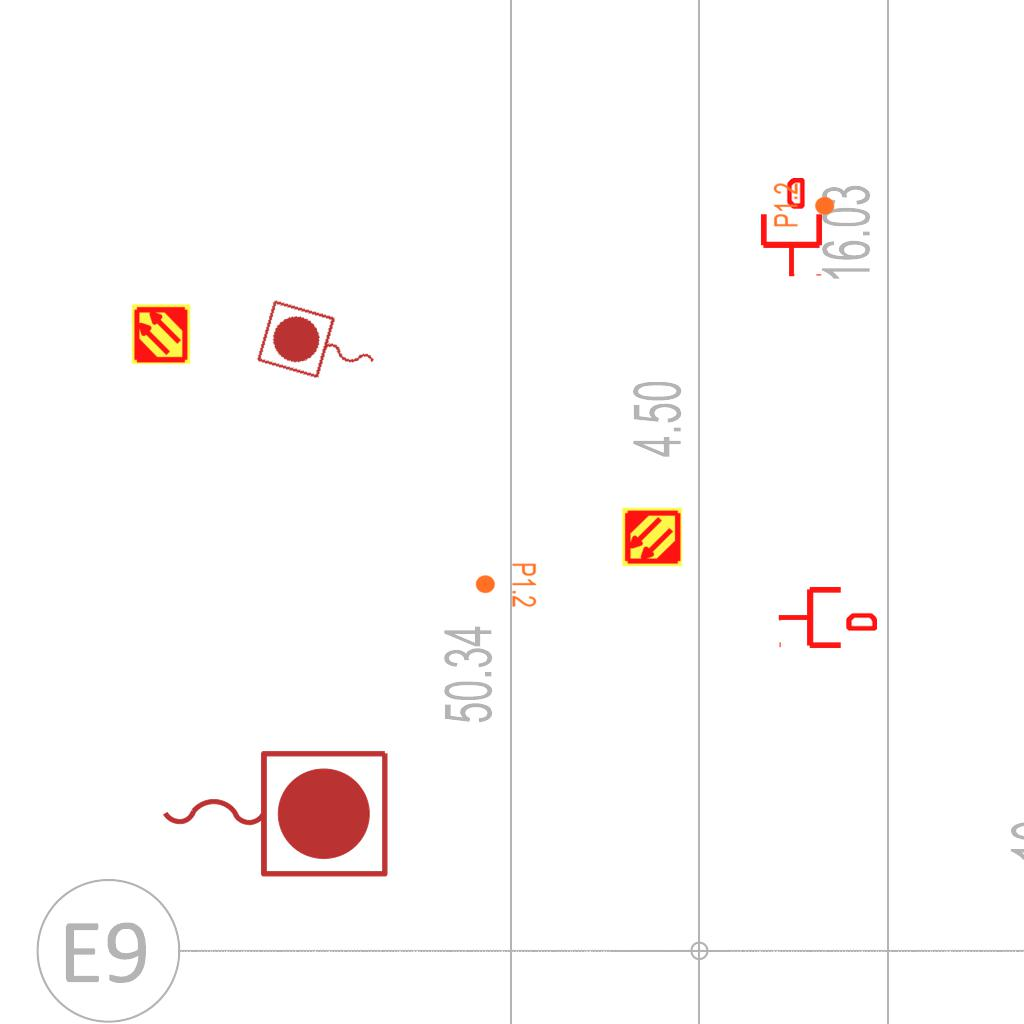ASR_Ansaugrauchmelder: (621, 506, 683, 568), (130, 303, 192, 365)
Datenanschluss_einfach: (777, 583, 877, 652), (757, 178, 826, 278)
Downlight_LED_Einbauleuchten_Flur: (474, 562, 538, 608), (772, 182, 836, 228)
Zugtaster: (152, 740, 396, 884), (251, 295, 389, 399)
